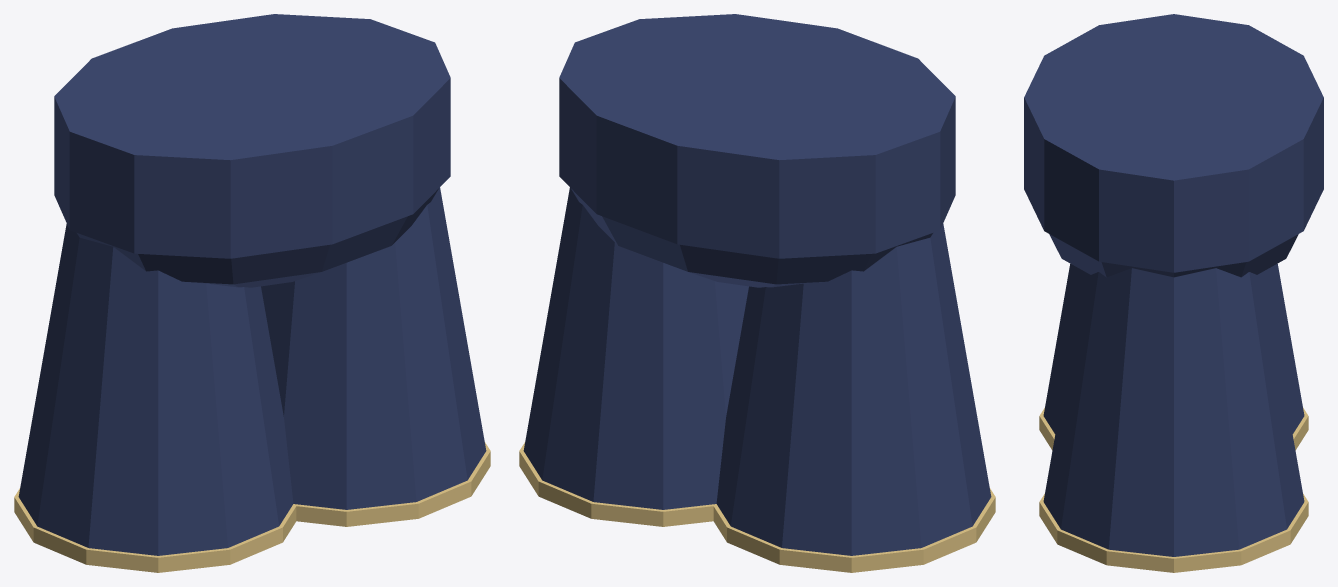
File: pants_klesh.glb
3 renders of one model, left to right at view 1: azimuth 30°, elevation 25°; view 2: azimuth 150°, elevation 25°; view 3: azimuth 270°, elevation 25°, orthographic. The views are drawn at different scales.
Visible parts, largest first — view 1: Torso, LegL, LegR; view 2: Torso, LegL, LegR; view 3: Torso, LegR, LegL.
Part boxes in pixels (box(x1,y1,x2,y2)): Torso: box(54, 14, 450, 287); LegL: box(14, 224, 297, 572); LegR: box(261, 187, 490, 526); Torso: box(559, 14, 955, 287); LegL: box(712, 224, 995, 572); LegR: box(519, 187, 748, 526); Torso: box(1024, 14, 1323, 277); LegR: box(1039, 268, 1308, 572); LegL: box(1039, 263, 1308, 450).
Bounding box in the file's own units: 0.604 × 0.53 × 0.383.
